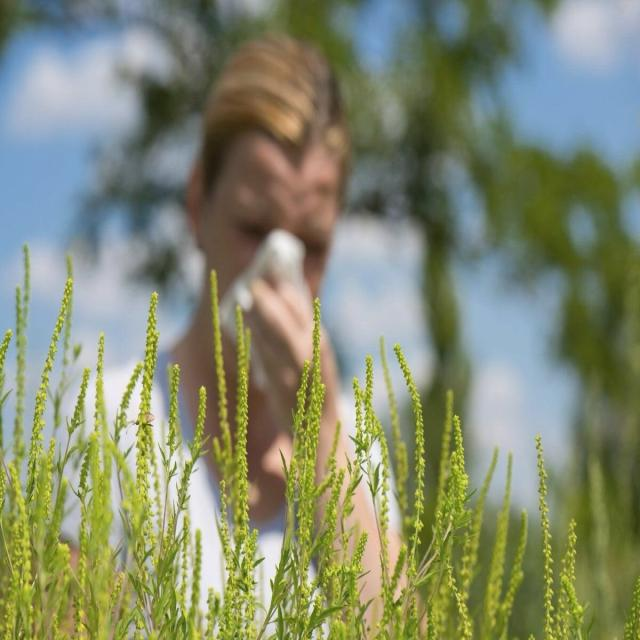ambrosia: (227, 296, 353, 611), (14, 253, 100, 603), (383, 349, 491, 612), (140, 259, 213, 615), (522, 427, 596, 623)
